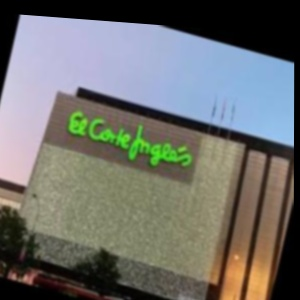corte_ingles: (169, 68, 237, 158)
